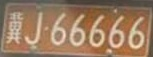J: (24, 12, 43, 50)
